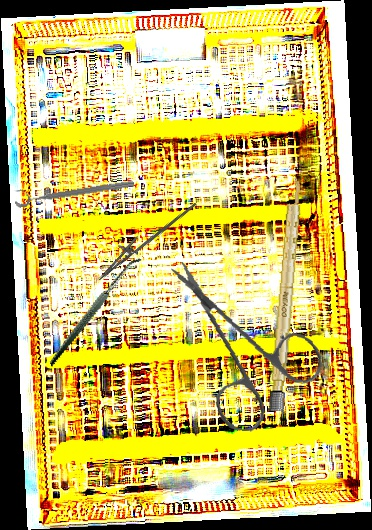Fixation Ring: (13, 170, 135, 209)
Hook Surgical: (19, 243, 166, 367)
Iris Scissors: (152, 260, 334, 440)
Needle Holder: (91, 185, 198, 292)
Scalpel Handle: (268, 177, 304, 412)
